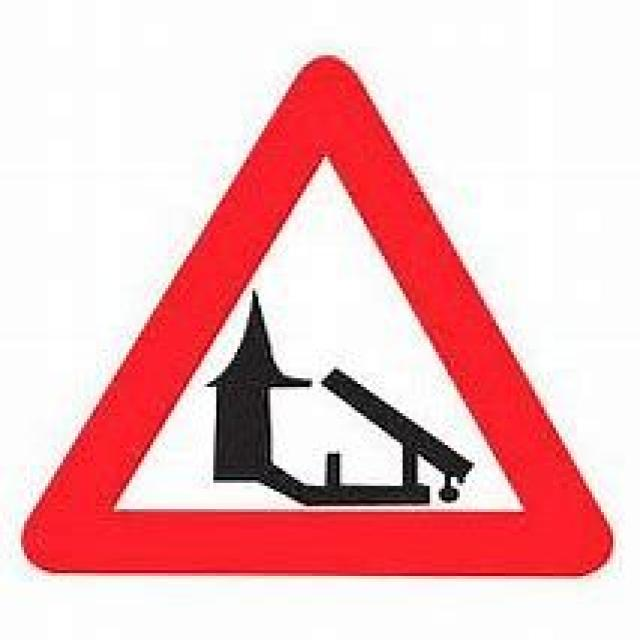BARRIER_AHEAD: (0, 25, 640, 594)
